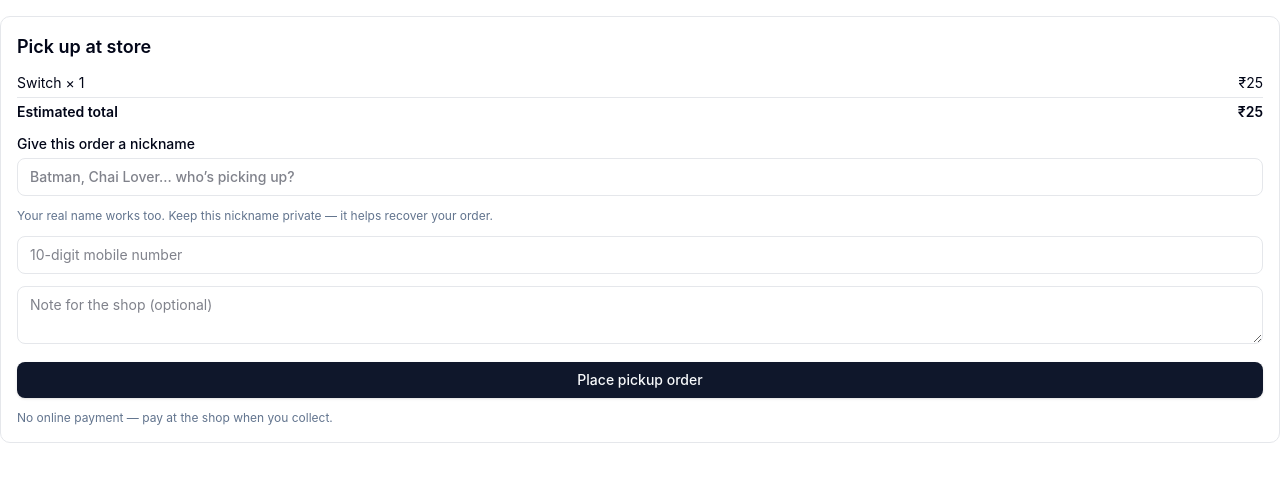
Test: rejects an invalid mobile number before creating an order
In the field named "Order nickname": (640, 177) [17, 158, 1263, 196], type "Batman"
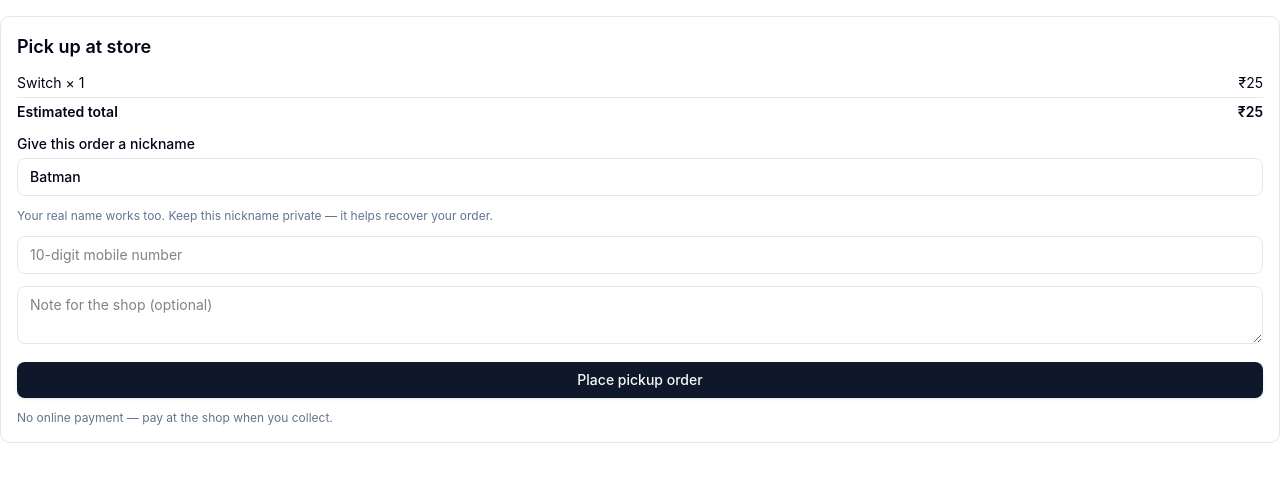
In the field labelled "mobile number": (640, 255) [17, 236, 1263, 274], type "1234567890"
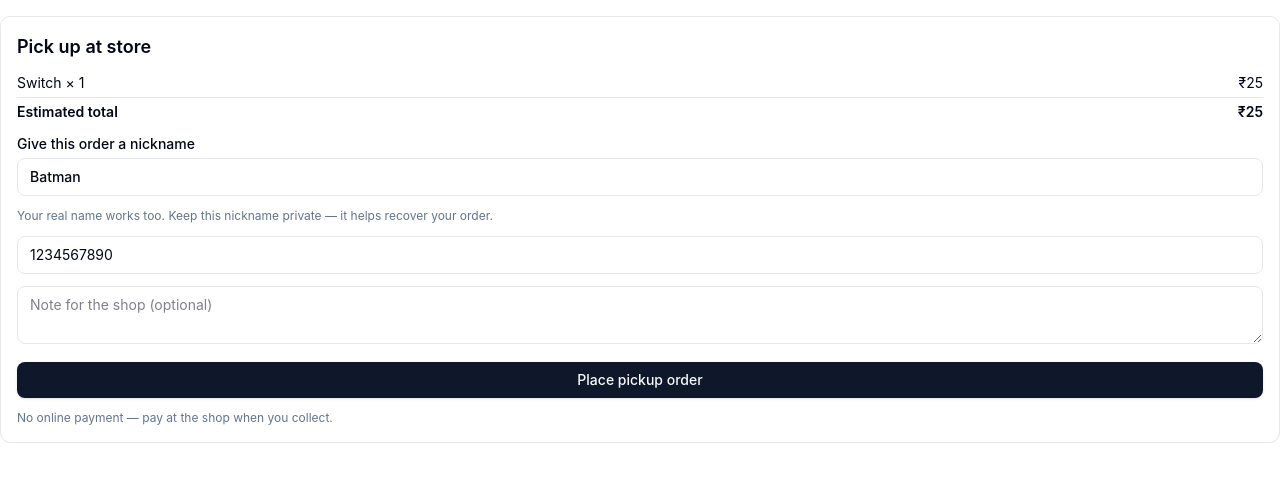
Click the button "Place pickup order": click(640, 380) [17, 362, 1263, 398]
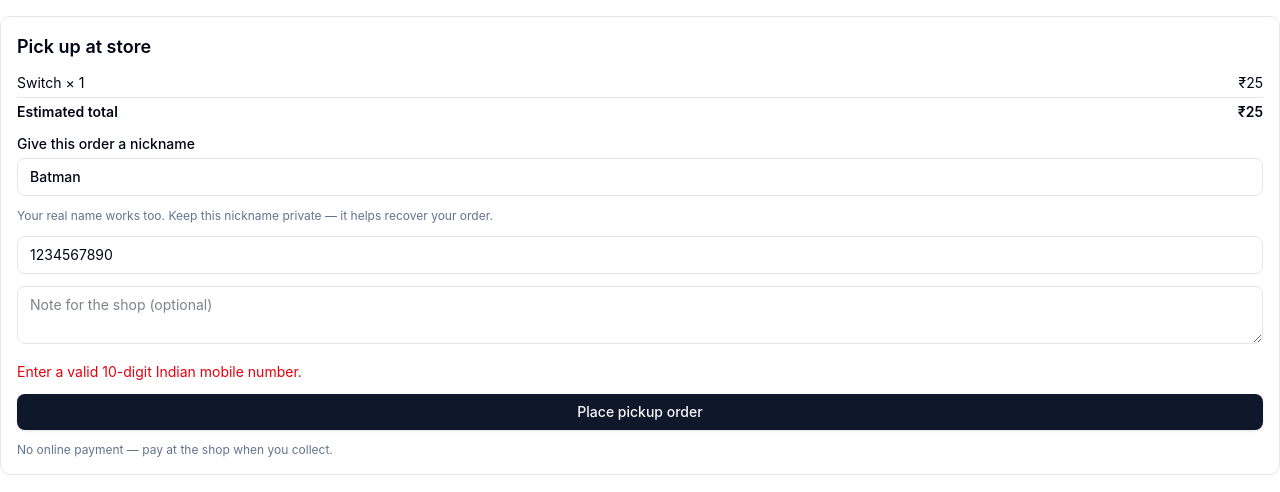
Result: the message reads "Enter a valid 10-digit Indian mobile number." at [17, 363, 302, 380]
